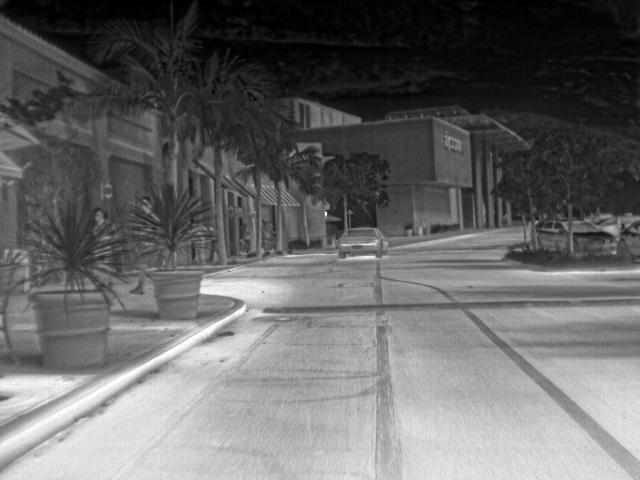car: (337, 226, 388, 260), (574, 217, 617, 255), (537, 218, 566, 253), (616, 221, 640, 262)
person: (93, 209, 110, 247)
